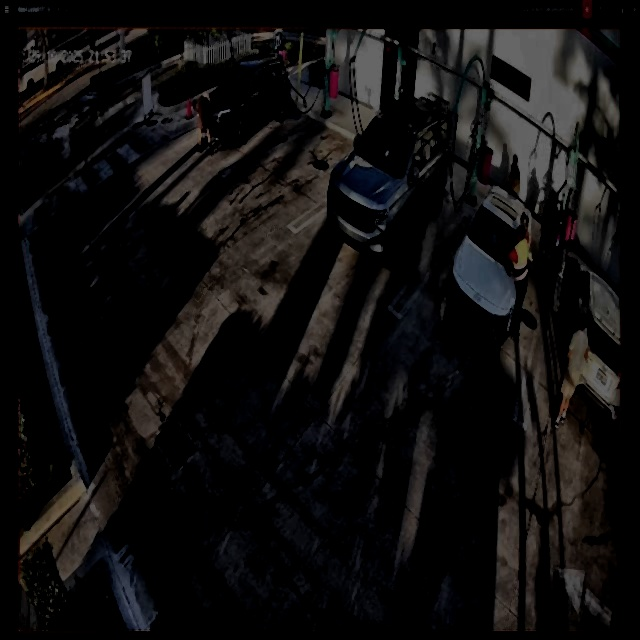Car: (328, 96, 448, 266), (451, 187, 532, 348), (203, 58, 289, 149)
